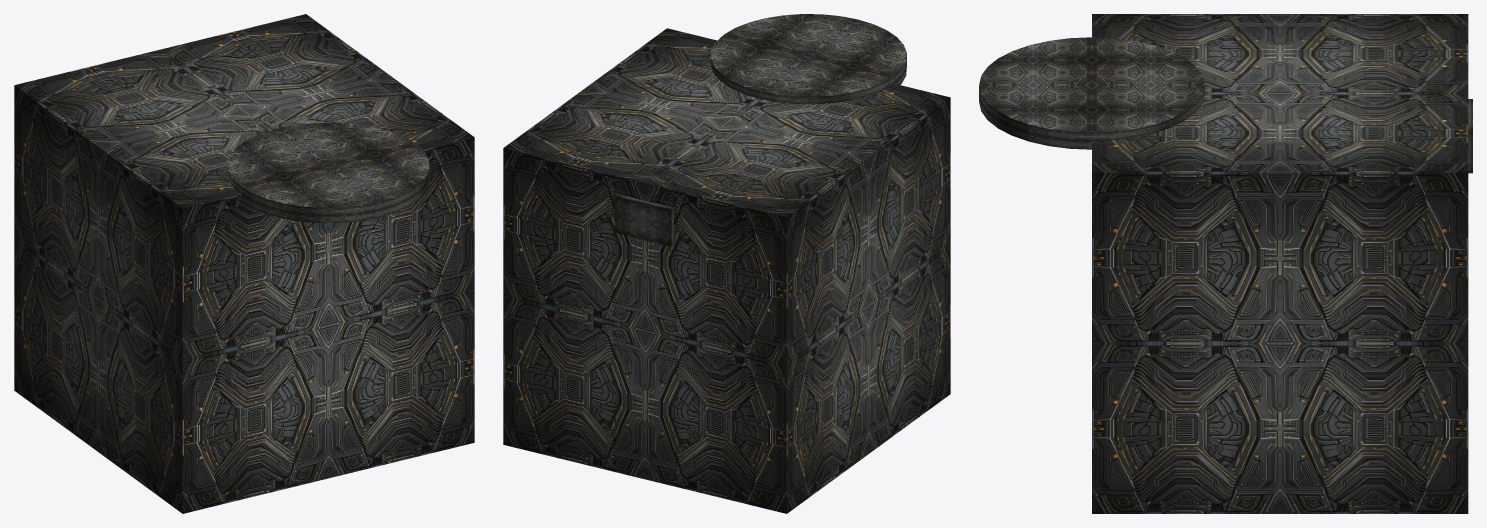
The model's file is futuristic_sci-fi_command_console.glb.
3 renders of one model, left to right at view 1: azimuth 30°, elevation 25°; view 2: azimuth 150°, elevation 25°; view 3: azimuth 270°, elevation 25°, orthographic. The views are drawn at different scales.
Parts seen in each view (by area): view 1: Base_Console, Screen; view 2: Base_Console, Screen, Keypad; view 3: Base_Console, Screen.
Boxes of the visible parts, x1,y1,x2,y2 form: Base_Console: (14,14,474,513); Screen: (228,122,429,223); Base_Console: (503,28,950,513); Screen: (711,14,906,104); Keypad: (614,194,673,246); Base_Console: (1092,14,1468,513); Screen: (979,37,1204,149).
Size of the model in its own units: 2 by 2.05 by 2.62.
Materials: 1 (1 with a texture image).
